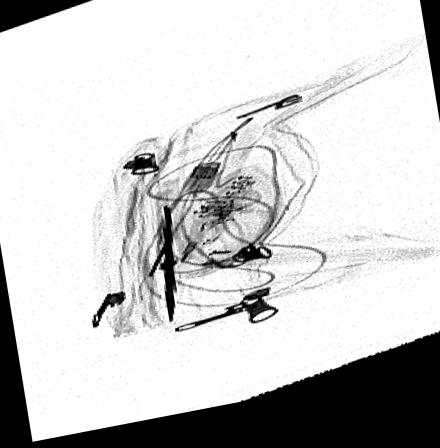Scissors: (150, 181, 181, 332)
